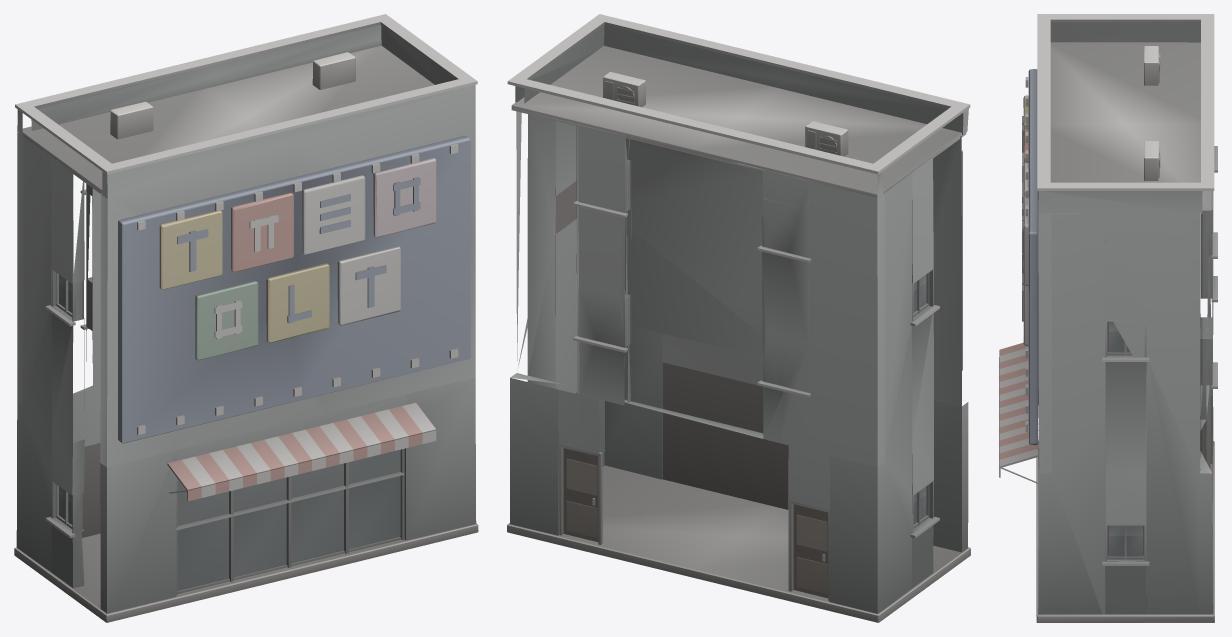
File: parlour.lod1.glb
3 views of the same model, side by side, from view 1: azimuth 30°, elevation 25°; view 2: azimuth 150°, elevation 25°; view 3: azimuth 270°, elevation 25° (orthographic). The views are drawn at different scales.
Size of the model in its own units: 8.2 by 9.37 by 4.28.
